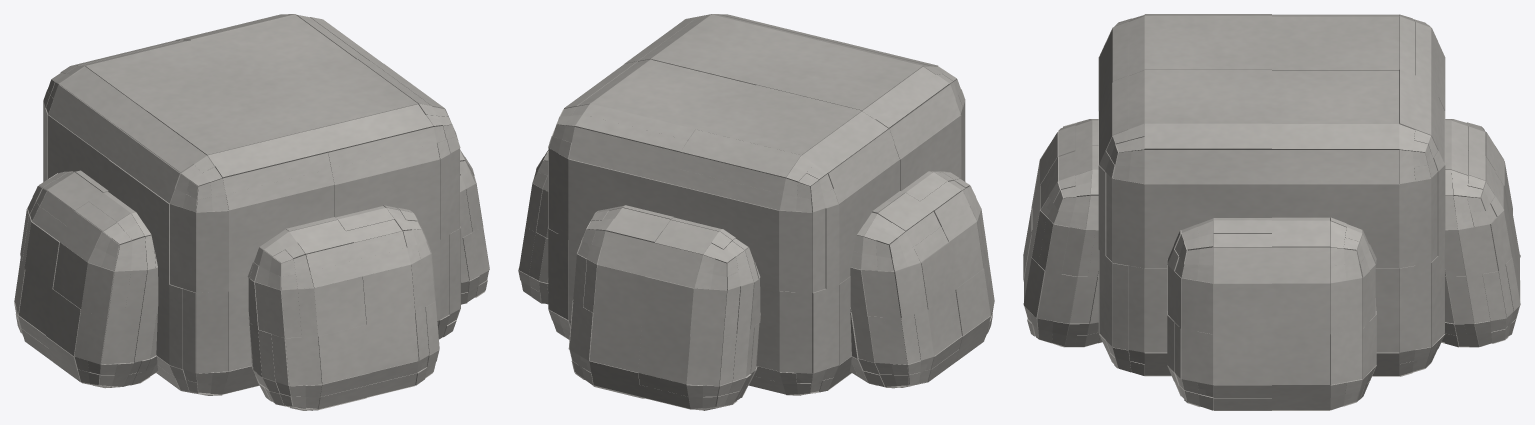
File: 외곽지지대.glb
3 views of the same model, side by side, from view 1: azimuth 30°, elevation 25°; view 2: azimuth 150°, elevation 25°; view 3: azimuth 270°, elevation 25° (orthographic). The views are drawn at different scales.
Visible parts, largest first — view 1: 외곽지지대_구움; view 2: 외곽지지대_구움; view 3: 외곽지지대_구움.
Boxes of the visible parts, box(x1,y1,x2,y2) form: 외곽지지대_구움: box(14, 14, 489, 410); 외곽지지대_구움: box(518, 14, 994, 410); 외곽지지대_구움: box(1023, 14, 1520, 410).
Size of the model in its own units: 1.45 by 0.8095 by 1.45.
Materials: 1 (1 with a texture image).
